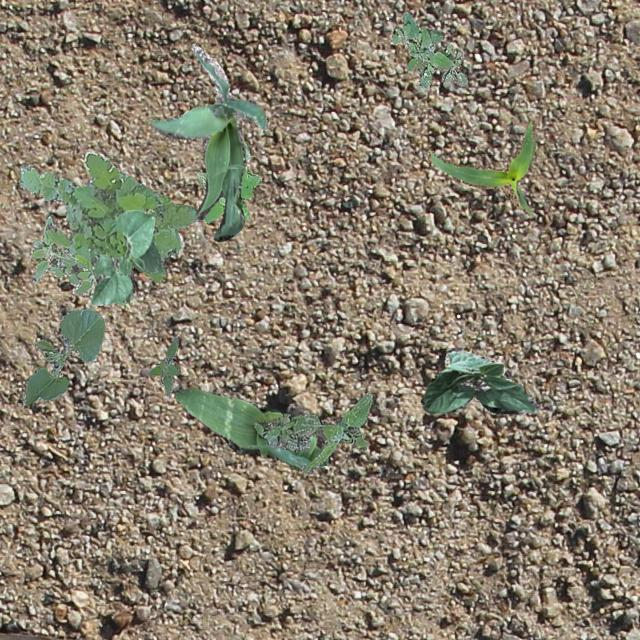crop: (148, 42, 268, 240), (173, 386, 329, 468), (426, 120, 536, 213), (22, 308, 104, 406), (420, 346, 538, 412), (88, 208, 162, 304)
weed: (18, 150, 196, 280), (252, 392, 372, 474), (388, 12, 466, 88), (28, 212, 94, 294), (196, 140, 260, 222), (148, 336, 178, 394)
